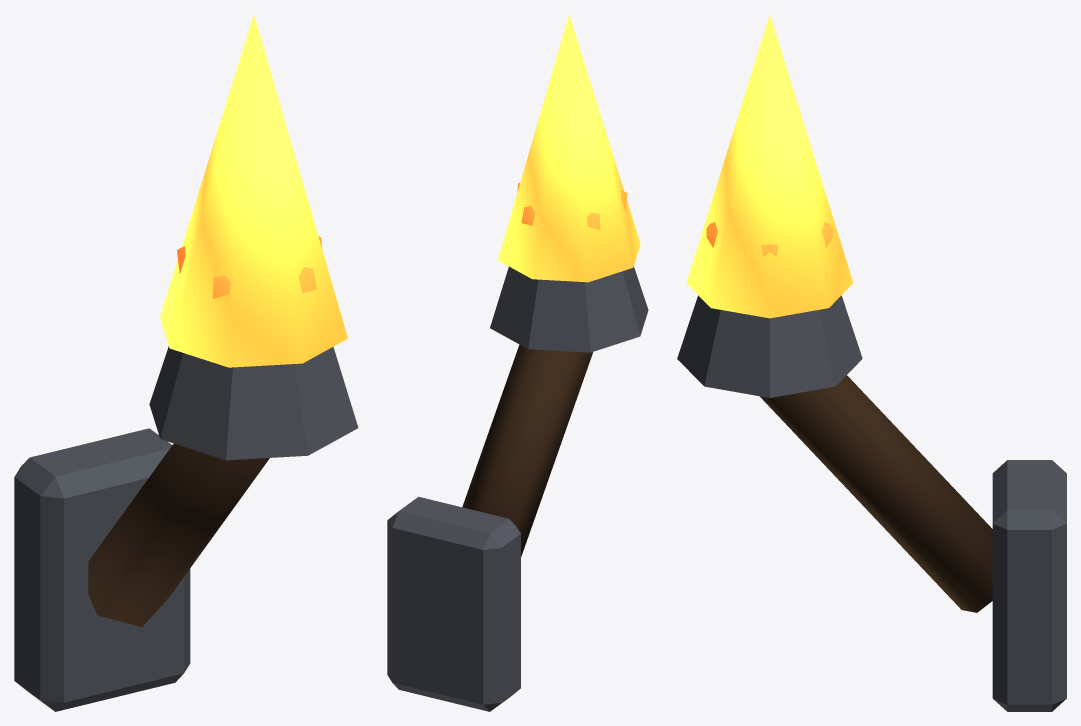
Rendered from torch.glb.
The picture shows the model from 3 angles, left to right: view 1: azimuth 30°, elevation 25°; view 2: azimuth 150°, elevation 25°; view 3: azimuth 270°, elevation 25°; orthographic projection. The views are drawn at different scales.
Parts seen in each view (by area): view 1: Torch; view 2: Torch; view 3: Torch.
Part boxes in pixels (<box>): Torch: <box>14,14,358,711</box>; Torch: <box>387,14,648,711</box>; Torch: <box>677,14,1066,711</box>.
Bounding box in the file's own units: 0.1 × 0.4 × 0.21.
